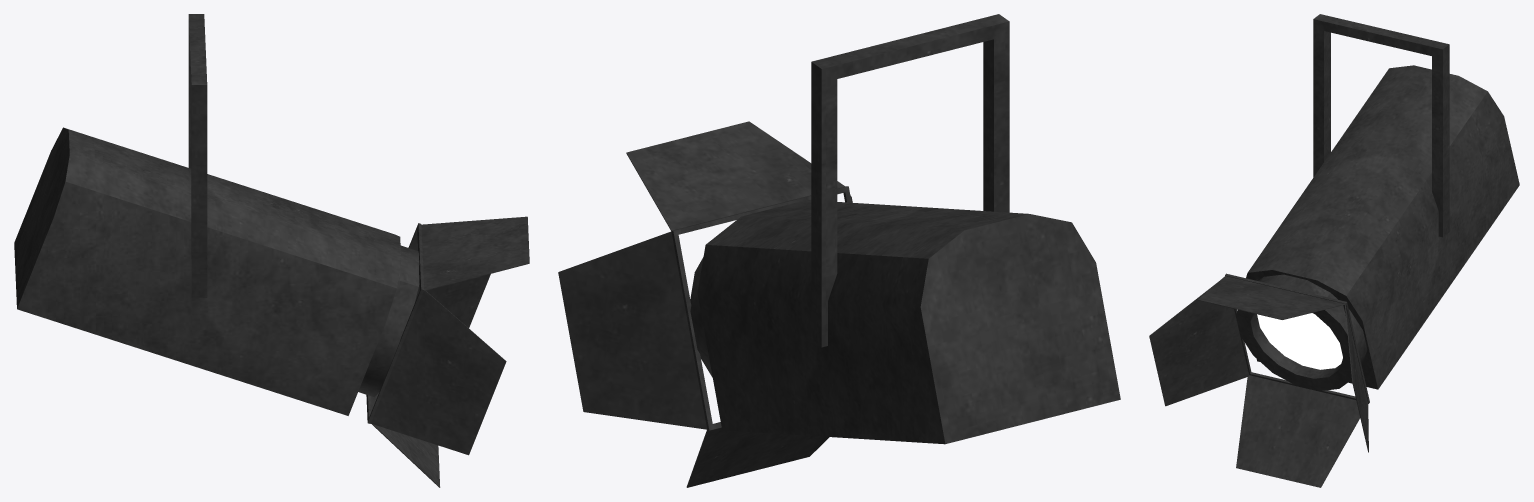
3 views of the same model, side by side, from view 1: azimuth 30°, elevation 25°; view 2: azimuth 150°, elevation 25°; view 3: azimuth 270°, elevation 25° (orthographic). The views are drawn at different scales.
Parts seen in each view (by area): view 1: Cube_021; view 2: Cube_021; view 3: Cube_021.
Boxes of the visible parts, x1=… form: Cube_021: x1=14, y1=14, x2=529, y2=487; Cube_021: x1=558, y1=14, x2=1120, y2=487; Cube_021: x1=1149, y1=14, x2=1519, y2=487.
Size of the model in its own units: 0.673 by 0.5869 by 0.5361.
Materials: 2 (1 with a texture image).
